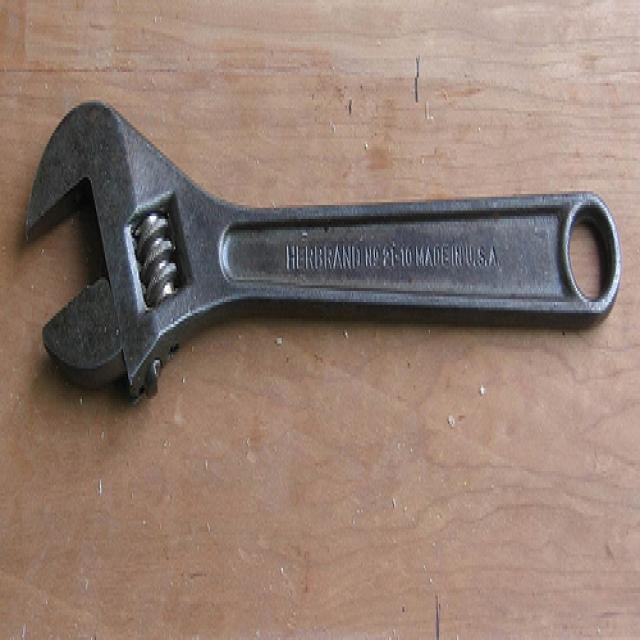wrench: (17, 88, 625, 416)
